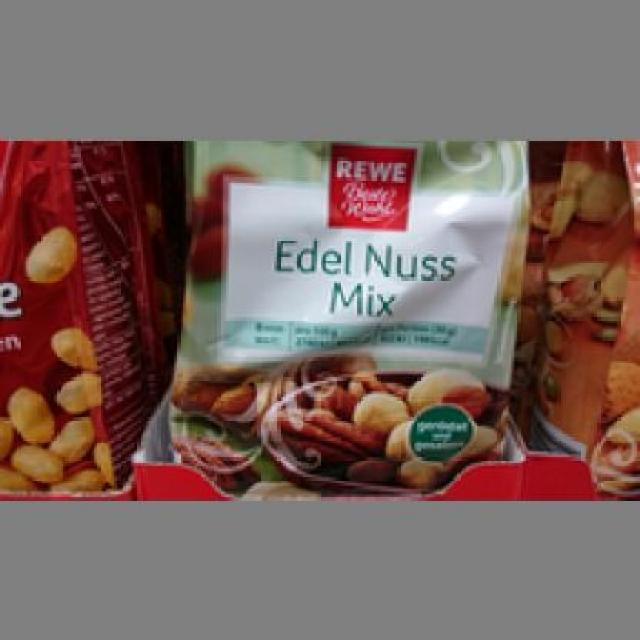Nuts: (166, 140, 532, 497)
